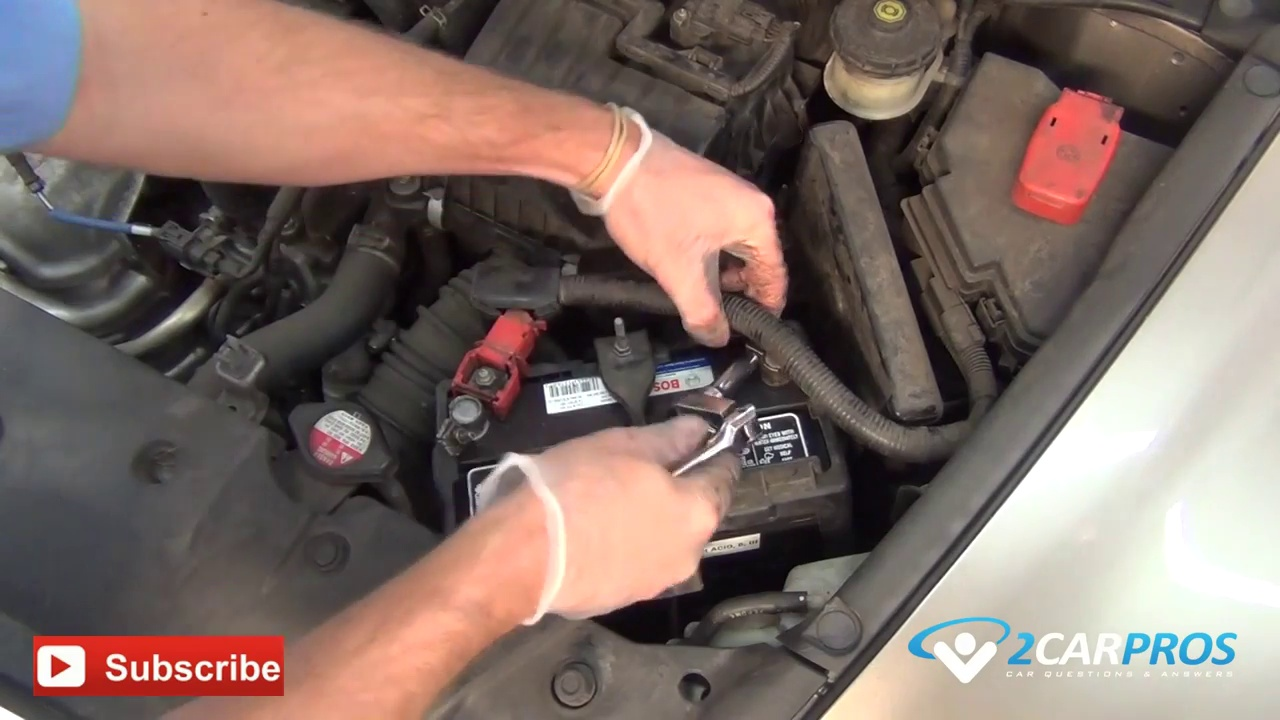battery: (422, 278, 830, 566)
neg_touched: (642, 220, 826, 414)
pos_connected: (429, 290, 563, 460)
